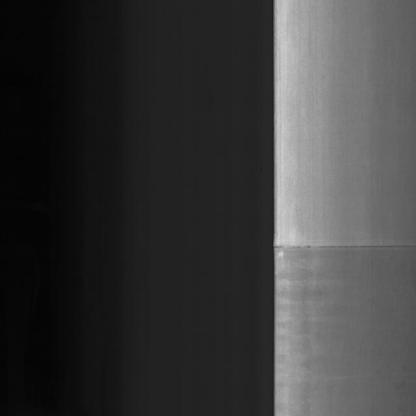welding_line: (273, 236, 416, 256)
